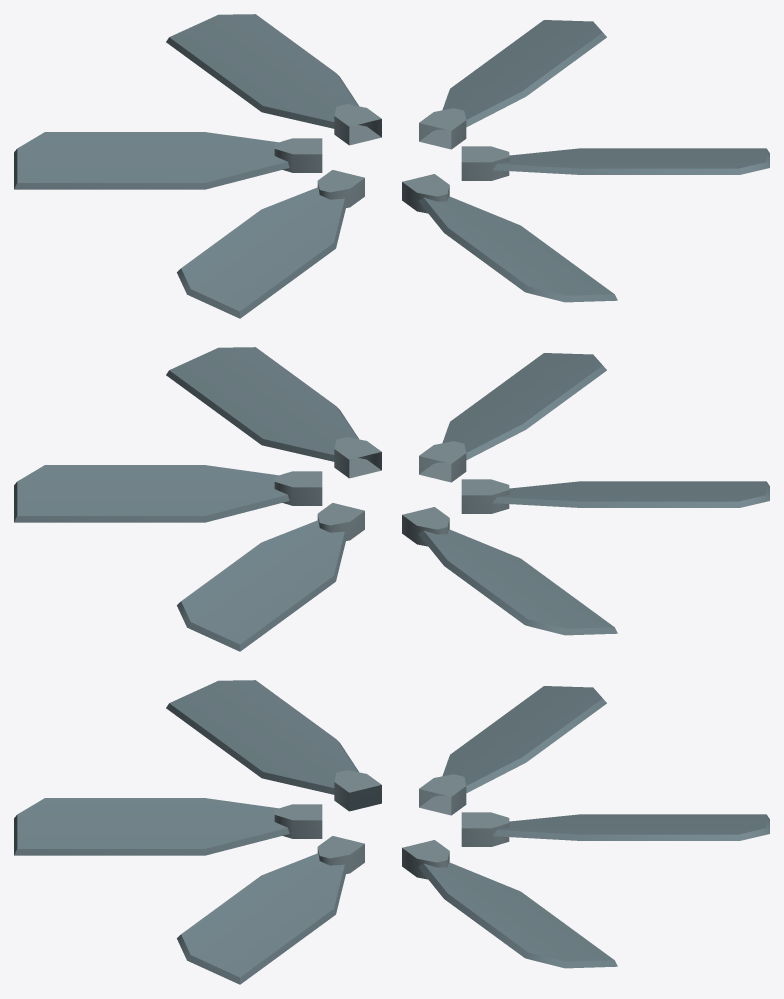
The model's file is Ventilation_014.fbx.
The picture shows the model from 3 angles, top to bottom: view 1: azimuth 30°, elevation 25°; view 2: azimuth 150°, elevation 25°; view 3: azimuth 270°, elevation 25°; orthographic projection.
Parts seen in each view (by area): view 1: Ventilation_014; view 2: Ventilation_014; view 3: Ventilation_014.
Part boxes in pixels (x1,y1,x2,y2): Ventilation_014: [14, 14, 769, 318]; Ventilation_014: [14, 347, 769, 651]; Ventilation_014: [14, 680, 769, 984].
Bounding box in the file's own units: 47.31 × 51.27 × 1.58.
